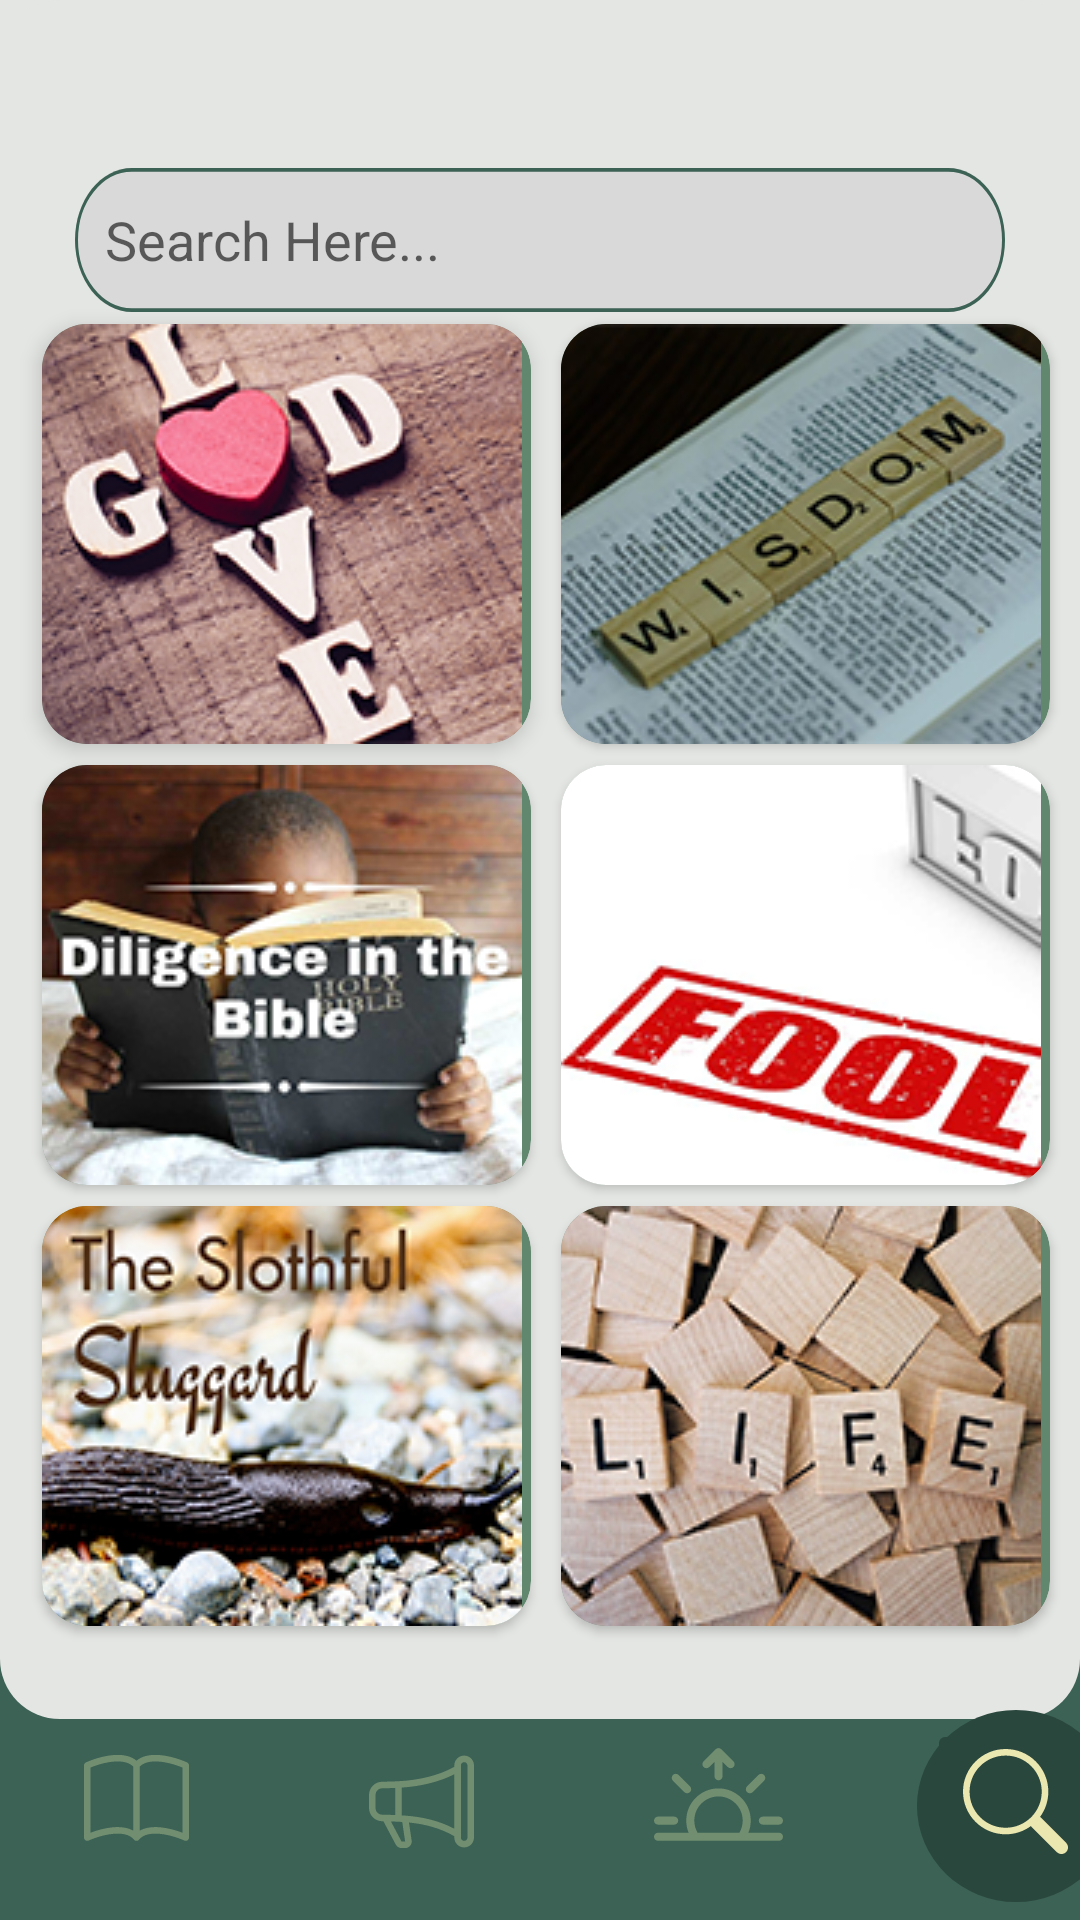

Icons on this 1080x1920 Android screen, each with the point to tap as (x,y):
book: (136,1798)
sunrise: (718,1794)
